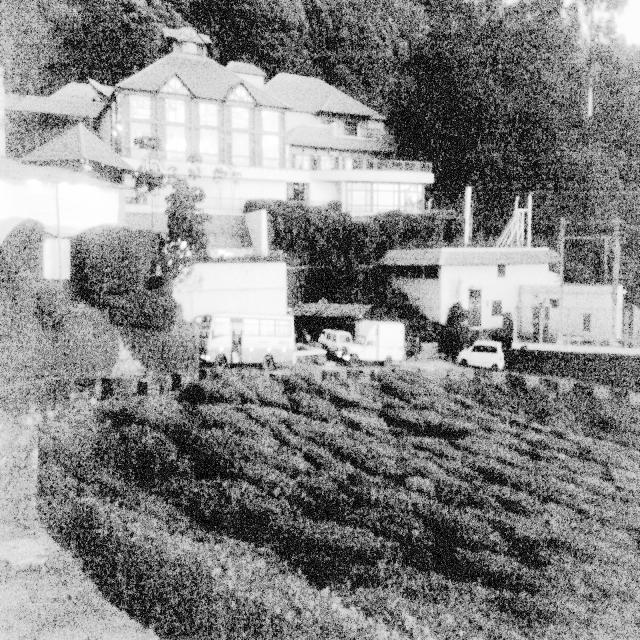Bus: (200, 307, 303, 370)
Car: (333, 302, 415, 380), (463, 327, 501, 381), (315, 321, 351, 367)
